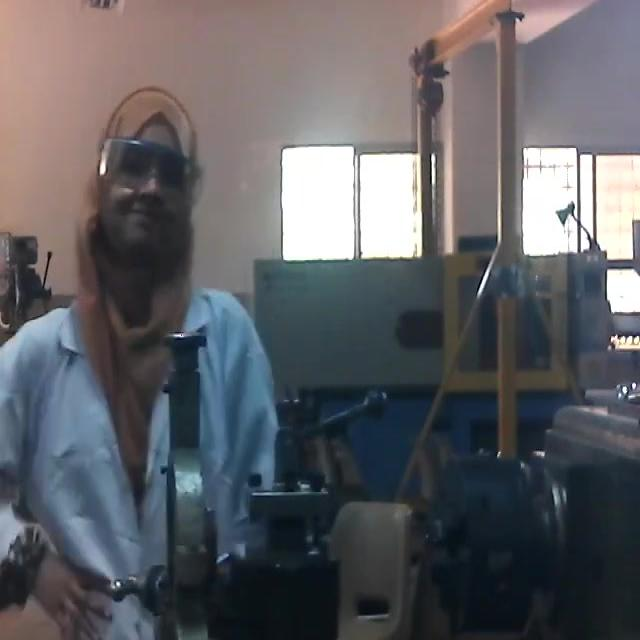googles: (94, 126, 208, 236)
labcoat: (0, 266, 296, 640)
